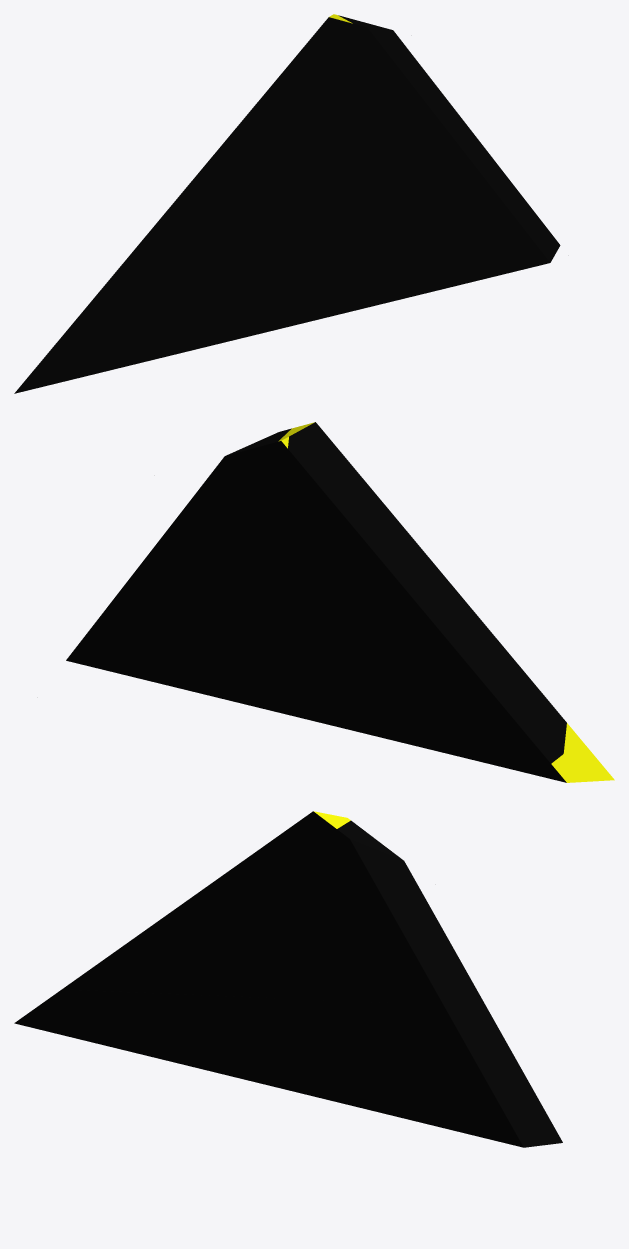
Rendered from Glass_shard_1.obj.
3 views of the same model, one above another, from view 1: azimuth 30°, elevation 25°; view 2: azimuth 150°, elevation 25°; view 3: azimuth 330°, elevation 25° (orthographic). The views are drawn at different scales.
Visible parts, largest first — view 1: shard48; view 2: shard48; view 3: shard48.
Boxes of the visible parts, x1,y1,x2,y2 form: shard48: [14, 14, 560, 393]; shard48: [66, 422, 614, 782]; shard48: [14, 811, 562, 1147].
Bounding box in the file's own units: 4.11 × 2.44 × 0.1799.
